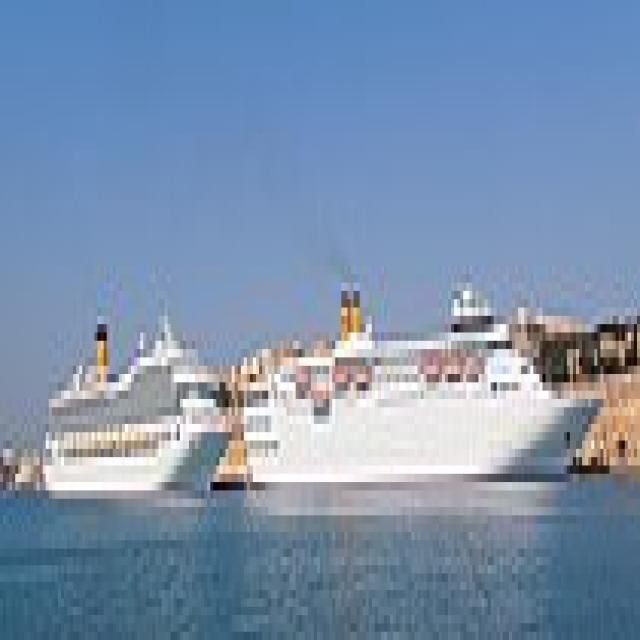Ship: (227, 284, 617, 517), (41, 292, 236, 525)
